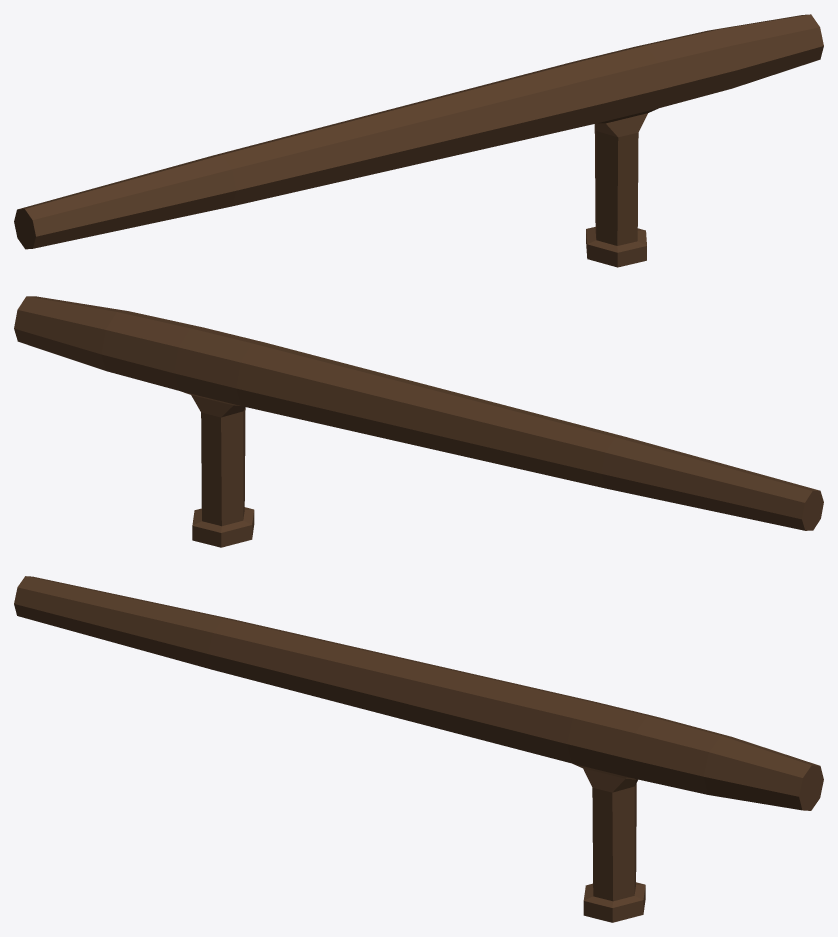
Rendered from Tonfa.fbx.
3 renders of one model, top to bottom at view 1: azimuth 30°, elevation 25°; view 2: azimuth 150°, elevation 25°; view 3: azimuth 330°, elevation 25°, orthographic.
Visible parts, largest first — view 1: Tonfa; view 2: Tonfa; view 3: Tonfa.
Part boxes in pixels (<box>): Tonfa: <box>14,14,823,267</box>; Tonfa: <box>14,296,823,547</box>; Tonfa: <box>14,576,823,922</box>.
Size of the model in its own units: 85.1 by 20.45 by 6.5.
